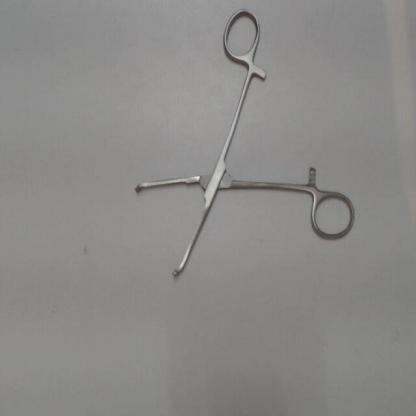Allis Tissue Forceps: (126, 4, 362, 293)
